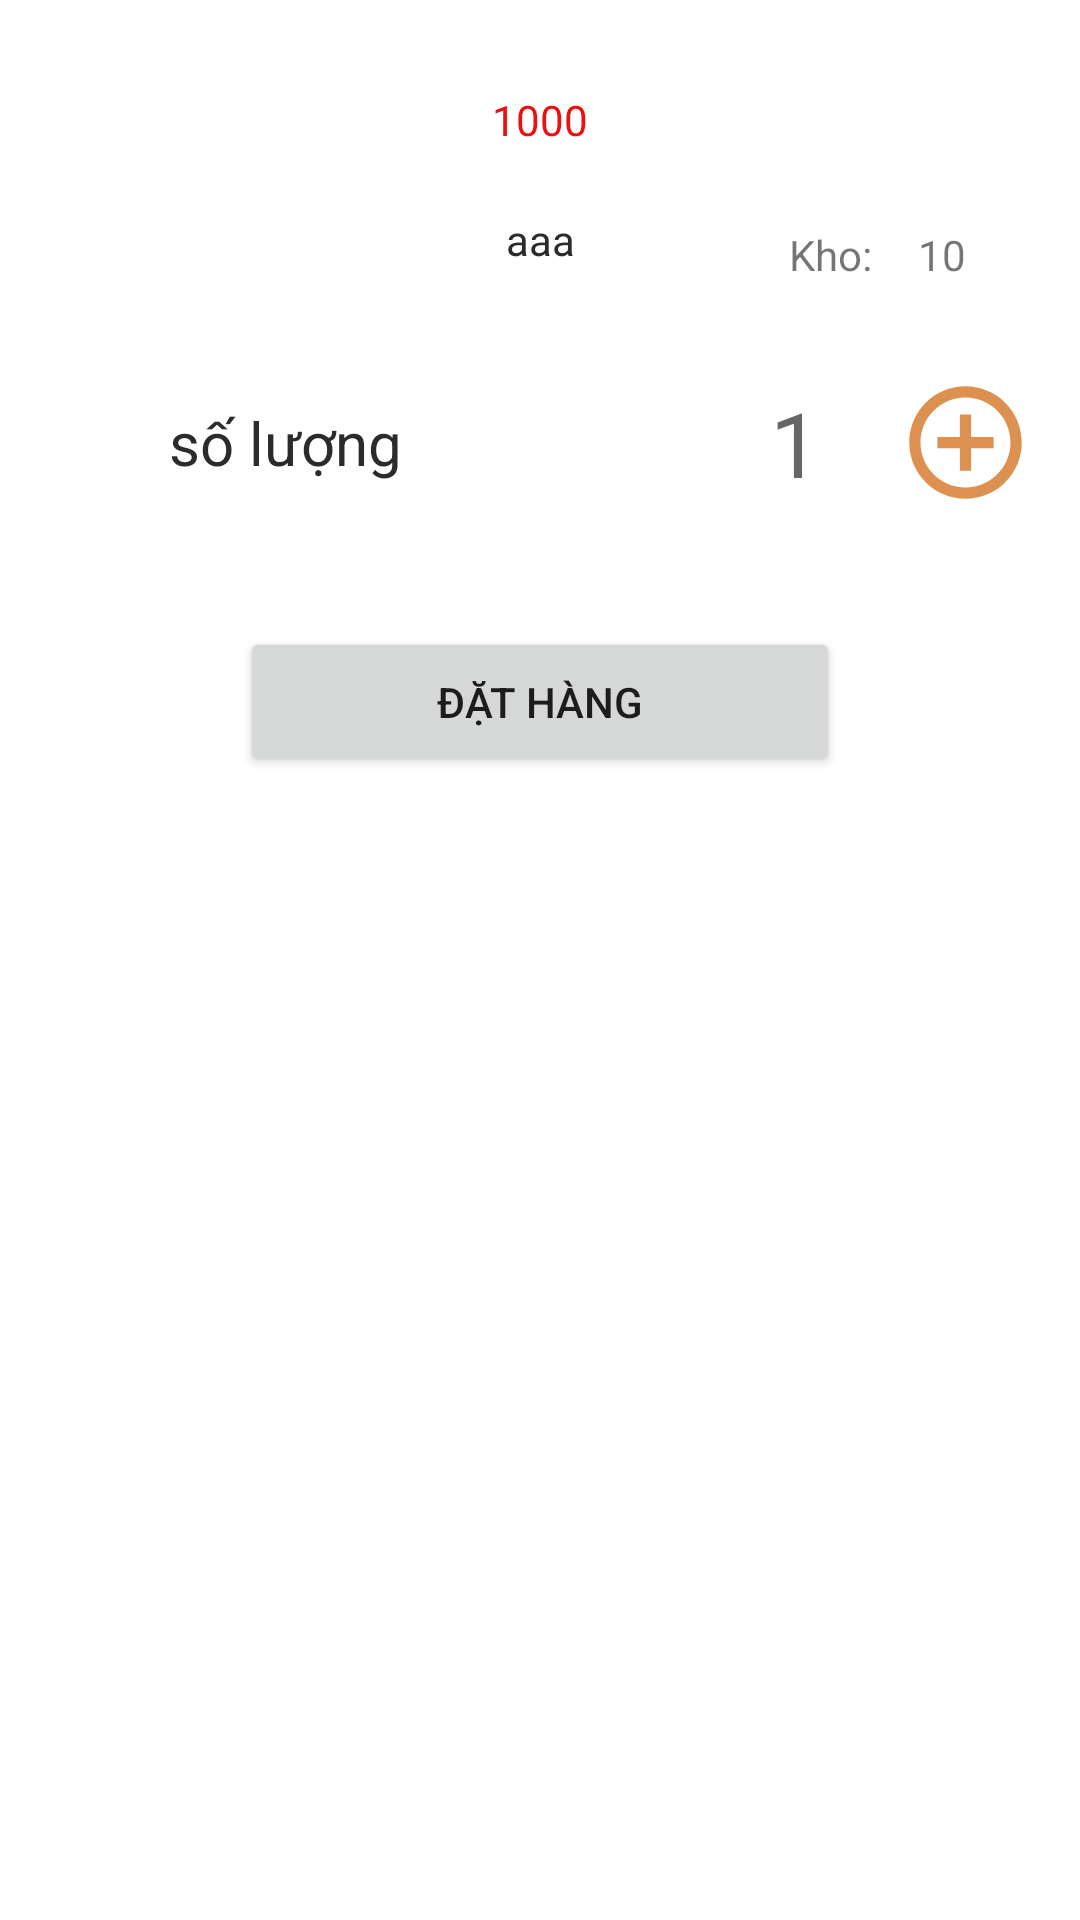

Named icons in this screenshot (1080px x 1920px) and their bounding boxes, (x1, y1, x2, y2):
sltang: (909, 386, 1022, 499)
